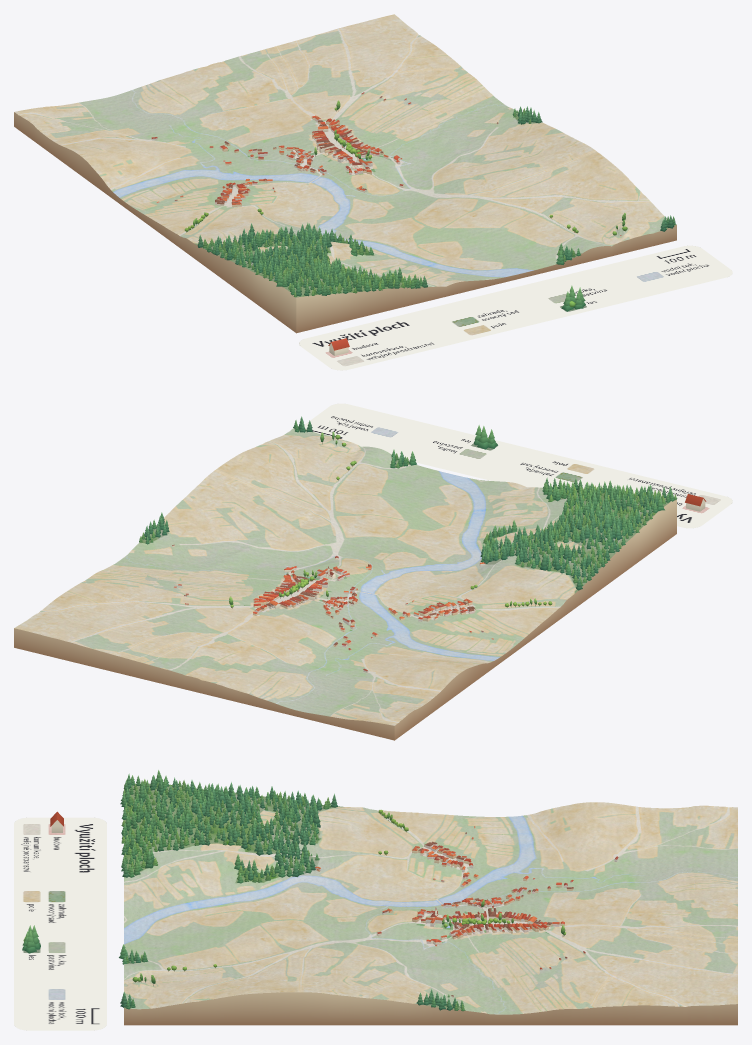
File: Frymburk_base_sada4.glb
The picture shows the model from 3 angles, top to bottom: view 1: azimuth 30°, elevation 25°; view 2: azimuth 150°, elevation 25°; view 3: azimuth 270°, elevation 25°; orthographic projection. The views are drawn at different scales.
Visible parts, largest first — view 1: DMR_CO, legenda_panel, stromy_CO, budovy_CO, legenda_objekty; view 2: DMR_CO, legenda_panel, stromy_CO, budovy_CO, legenda_objekty; view 3: DMR_CO, legenda_panel, stromy_CO, budovy_CO, legenda_objekty.
Boxes of the visible parts, box(x1,y1,x2,y2) form: DMR_CO: box(14, 14, 676, 333); legenda_panel: box(299, 245, 732, 370); stromy_CO: box(184, 100, 675, 297); budovy_CO: box(151, 92, 621, 236); legenda_objekty: box(328, 285, 585, 355); DMR_CO: box(14, 426, 676, 740); legenda_panel: box(304, 403, 732, 528); stromy_CO: box(139, 416, 677, 608); budovy_CO: box(172, 443, 494, 672); legenda_objekty: box(474, 425, 706, 511); DMR_CO: box(124, 783, 737, 1025); legenda_panel: box(14, 817, 106, 1030); stromy_CO: box(119, 770, 565, 1011); budovy_CO: box(315, 826, 618, 997); legenda_objekty: box(22, 811, 63, 953).
Bounding box in the file's own units: 1490 × 177 × 2140.
Materials: 7 (2 with a texture image).
